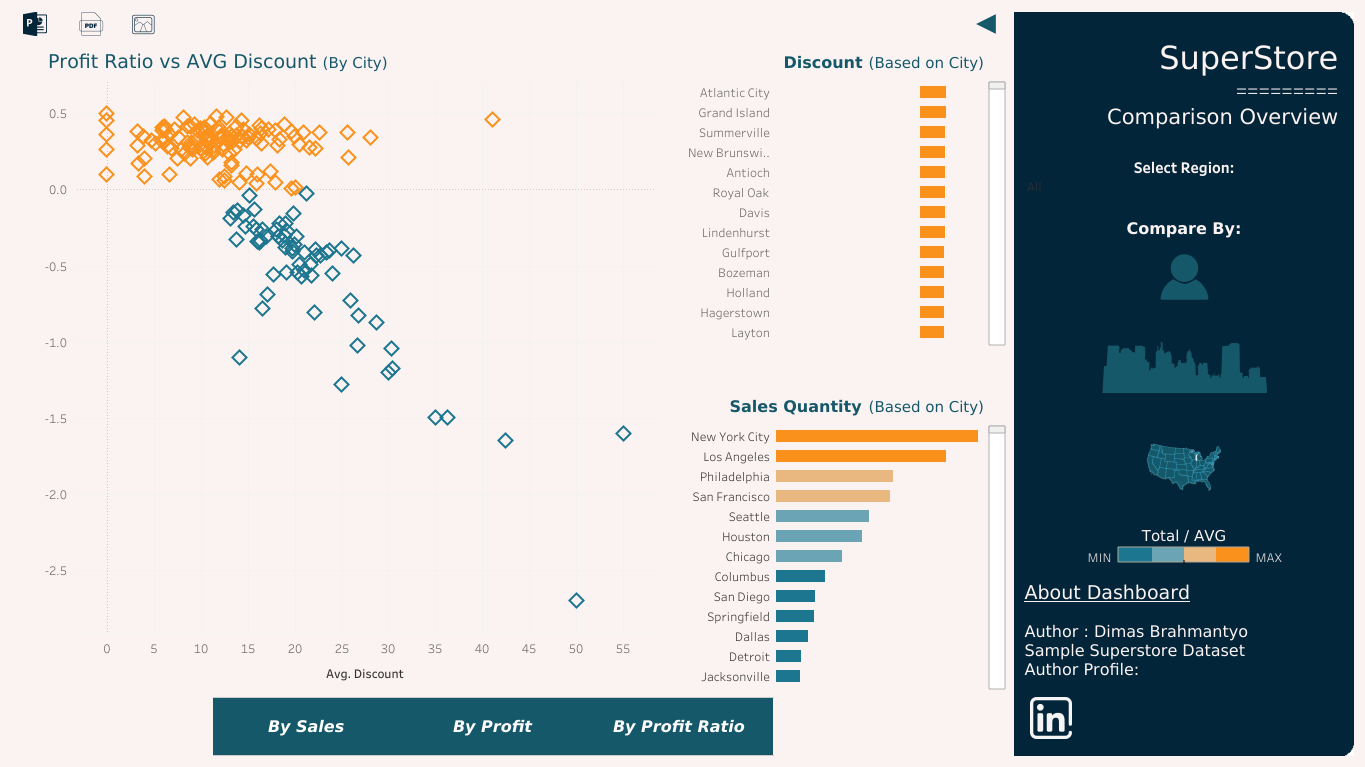

This screenshot's page, from the dashboard's own definition file:
{"tool":"tableau","page":{"name":"Dashboard 2 - Comparison Overview (By City)","canvas":[1366,768],"ordinal":1},"visuals":[{"type":"dashboard-object","box":[8,8,54,32]},{"type":"dashboard-object","box":[62,8,60,32]},{"type":"dashboard-object","box":[122,8,44,32]},{"type":"worksheet","title":"Go Back","mark":"Shape","rows":["Calculation_132293265483010062"],"box":[962,8,48,32]},{"type":"image","param":"Image/2.png","box":[1010,8,348,752]},{"type":"text","box":[1025,21,316,125]},{"type":"worksheet","title":"Sheet 8 (2)","mark":"Shape","rows":["Calculation_132293265338007554"],"cols":["Calculation_1180506078092304394"],"box":[40,40,620,653]},{"type":"worksheet","title":"Based on City","mark":"Bar","rows":["City"],"box":[683,40,327,309]},{"type":"filter","title":"Based on City","param":"[federated.1u37z9d020ffhv1e04nla11qurtp].[a1. Select Region Set]","box":[1025,155,318,43]},{"type":"text","box":[1027,213,314,30]},{"type":"dashboard-object","box":[1028,251,313,52]},{"type":"dashboard-object","box":[1029,341,311,52]},{"type":"worksheet","title":"Quantity Based on City","mark":"Automatic","rows":["City"],"cols":["Quantity"],"box":[683,384,327,309]},{"type":"dashboard-object","box":[1031,440,306,52]},{"type":"legend","title":"Quantity Based on City","param":"[federated.1u37z9d020ffhv1e04nla11qurtp].[sum:Quantity:qk]","box":[1114,523,140,44]},{"type":"text","box":[1085,546,29,21]},{"type":"text","box":[1253,546,37,22]},{"type":"text","box":[1022,577,272,106]},{"type":"worksheet","title":"LinkedIn","mark":"Shape","rows":["Calculation_1125055507973922816"],"box":[1022,691,57,53]},{"type":"worksheet","title":"Field Button (Dashboard 2)","mark":"Shape","box":[209,693,569,67]}]}

Visuals, with their boxes in screenshot pixels (x1, y1, x2, y2), scaled from the page's 1366x768 canvas onto the 1365x767 screenshot:
dashboard-object: BBox(8, 8, 62, 40)
dashboard-object: BBox(62, 8, 122, 40)
dashboard-object: BBox(122, 8, 166, 40)
"Go Back" worksheet (Shape marks): BBox(961, 8, 1009, 40)
image: BBox(1009, 8, 1357, 759)
text: BBox(1024, 21, 1340, 146)
"Sheet 8 (2)" worksheet (Shape marks): BBox(40, 40, 660, 692)
"Based on City" worksheet (Bar marks): BBox(682, 40, 1009, 349)
"Based on City" filter: BBox(1024, 155, 1342, 198)
text: BBox(1026, 213, 1340, 243)
dashboard-object: BBox(1027, 251, 1340, 303)
dashboard-object: BBox(1028, 341, 1339, 392)
"Quantity Based on City" worksheet: BBox(682, 384, 1009, 692)
dashboard-object: BBox(1030, 439, 1336, 491)
"Quantity Based on City" legend: BBox(1113, 522, 1253, 566)
text: BBox(1084, 545, 1113, 566)
text: BBox(1252, 545, 1289, 567)
text: BBox(1021, 576, 1293, 682)
"LinkedIn" worksheet (Shape marks): BBox(1021, 690, 1078, 743)
"Field Button (Dashboard 2)" worksheet (Shape marks): BBox(209, 692, 777, 759)
